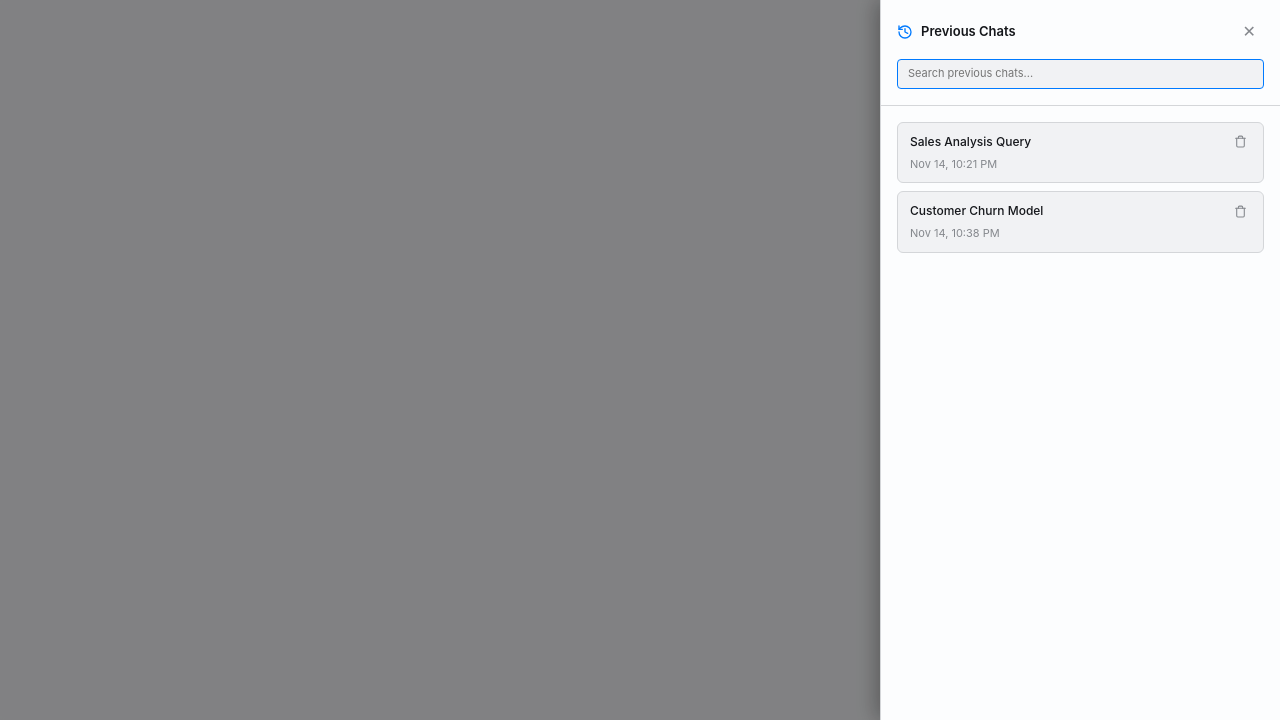
Test: PreviousChatsDrawer › filters conversations by search query
Expected: the text "Sales Analysis Query" is shown, [910,134,1031,149]
Expected: the text "Customer Churn Model" is shown, [910,204,1043,218]
Type "Churn" into the field with placeholder "Search previous chats..." at coordinates (1080, 74), box [897,59,1264,89]
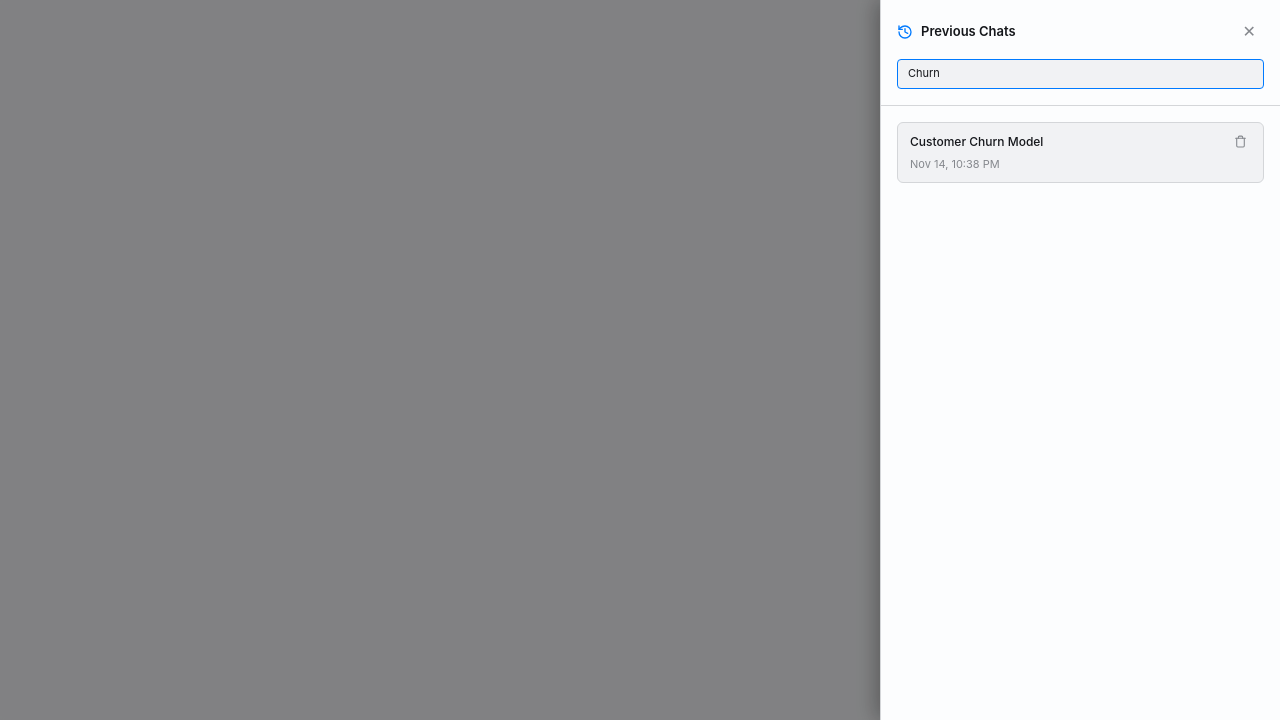
Expected: the text "Customer Churn Model" is shown, [910,134,1043,149]
Expected: the button "Sales Analysis Query" is gone
